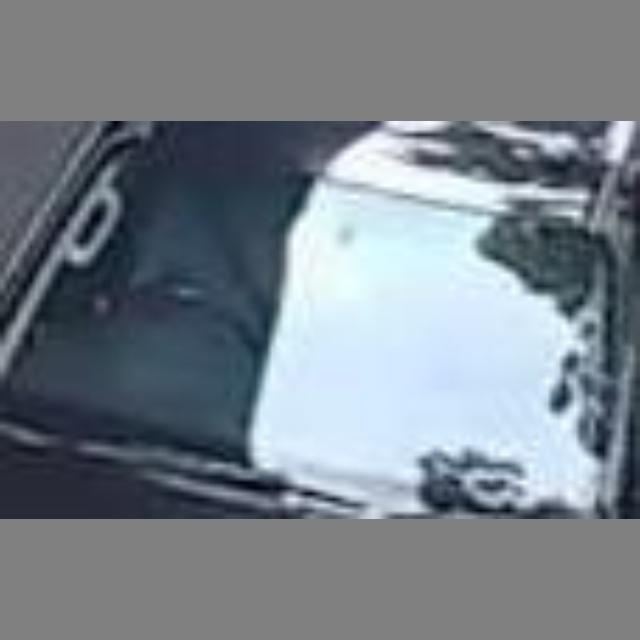pakai: (107, 166, 303, 368)
